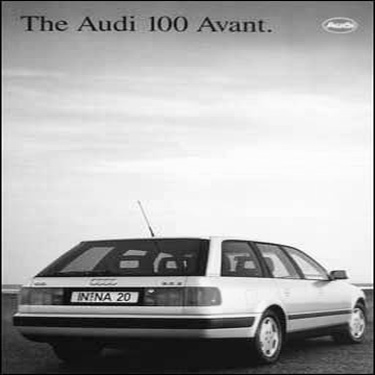car: (9, 190, 369, 370)
